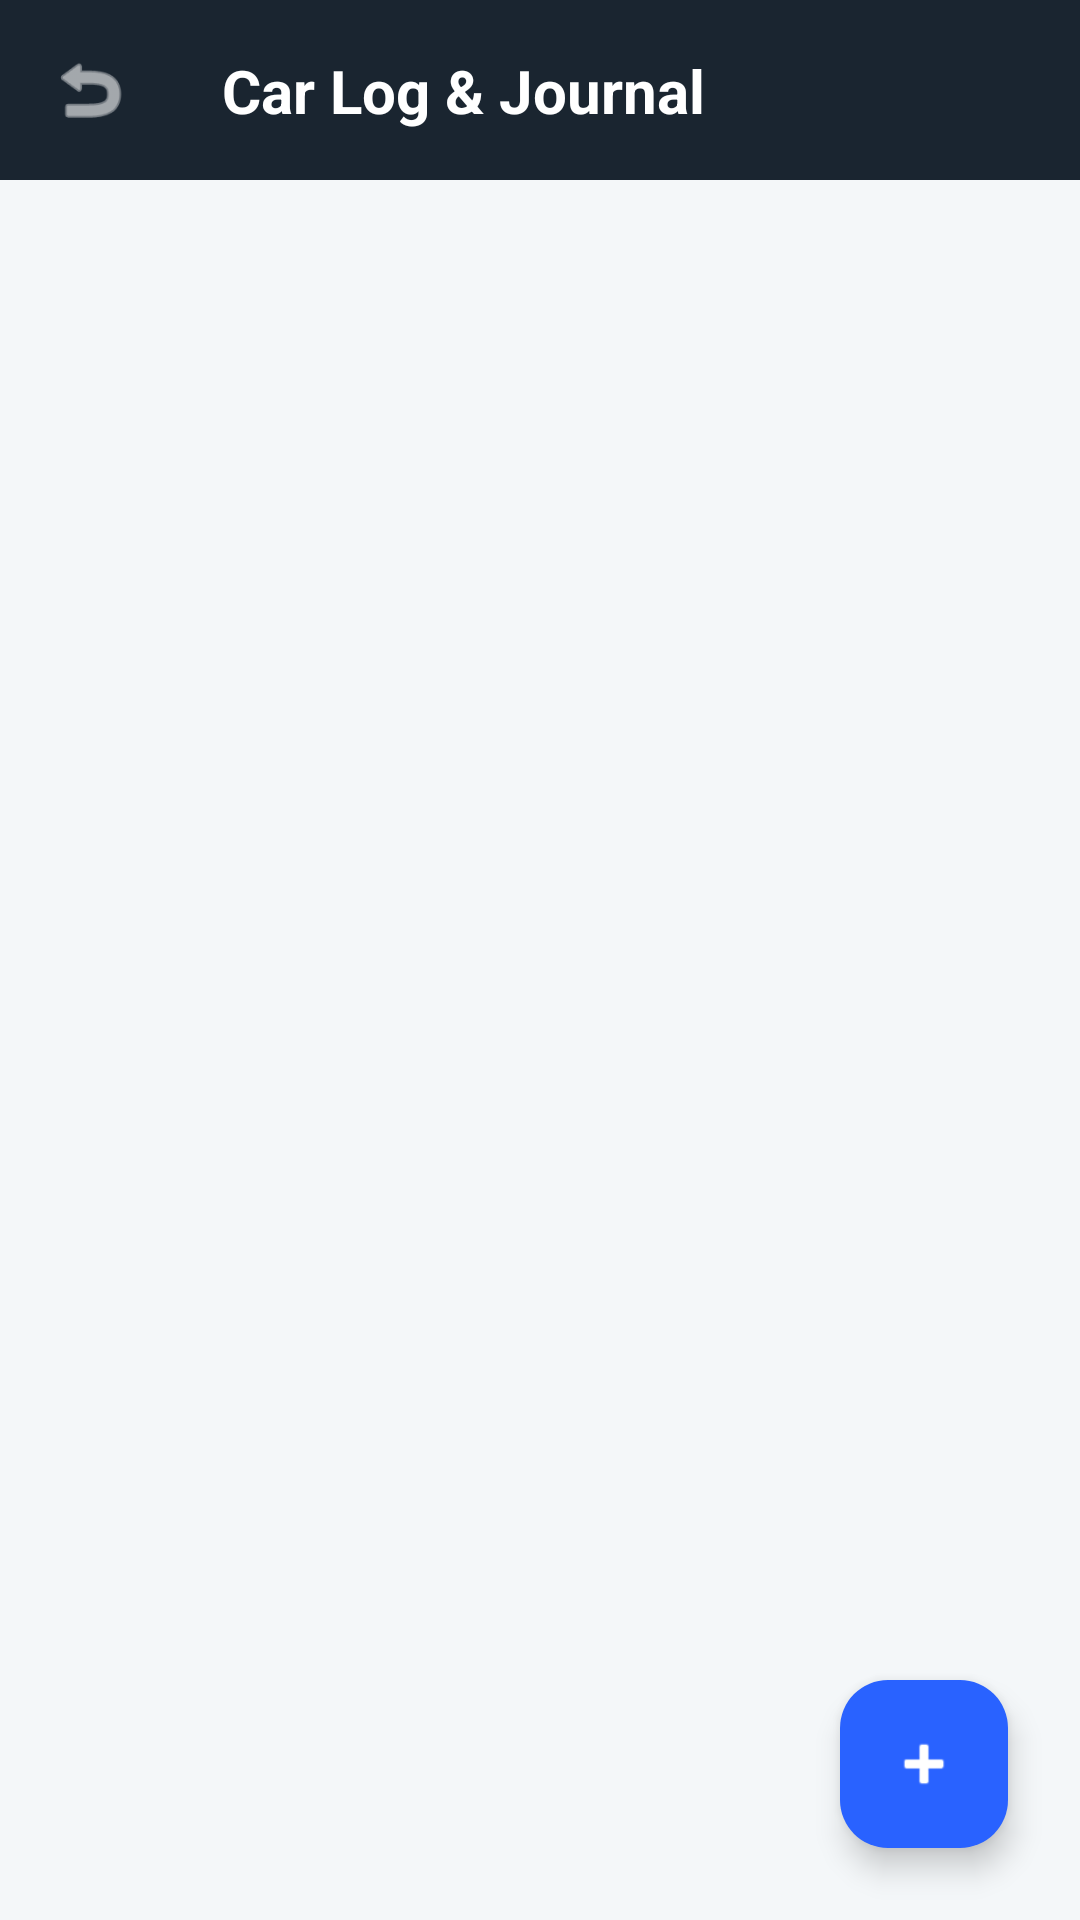

Icons on this 1080w x 1920h Android screen, each with the point to tap as (x,y):
add: (924,1764)
revert: (91,90)
